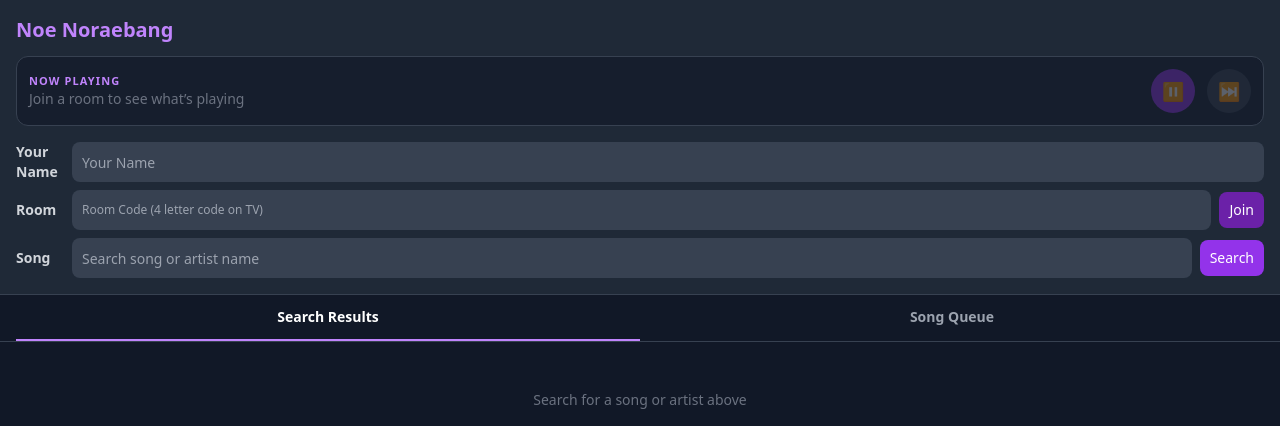
MobileView › clear search button › appears once there is text, and clears it and refocuses the field
Type "hotel california" into the field labelled "Song". click: (632,258)
box: [72,238,1192,278]
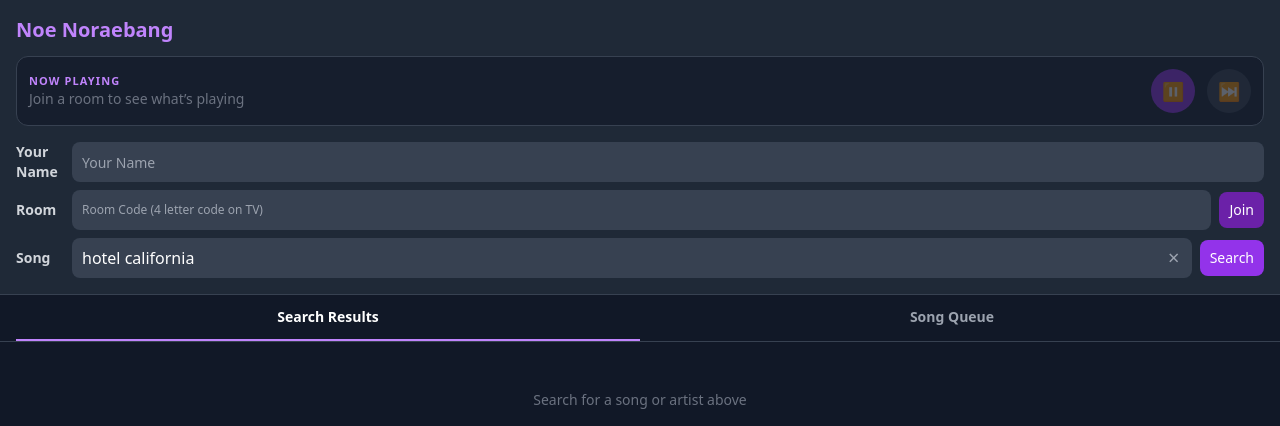
Click the button named "Clear search". click: (1174,258)
box: [1158,242,1190,274]
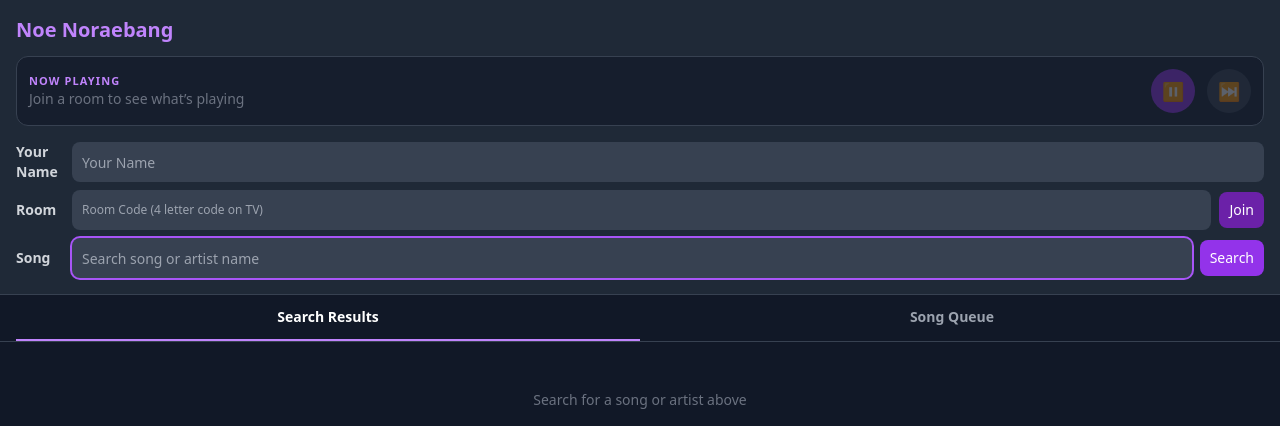
Now the field labelled "Song" is empty, box [72,238,1192,278]
